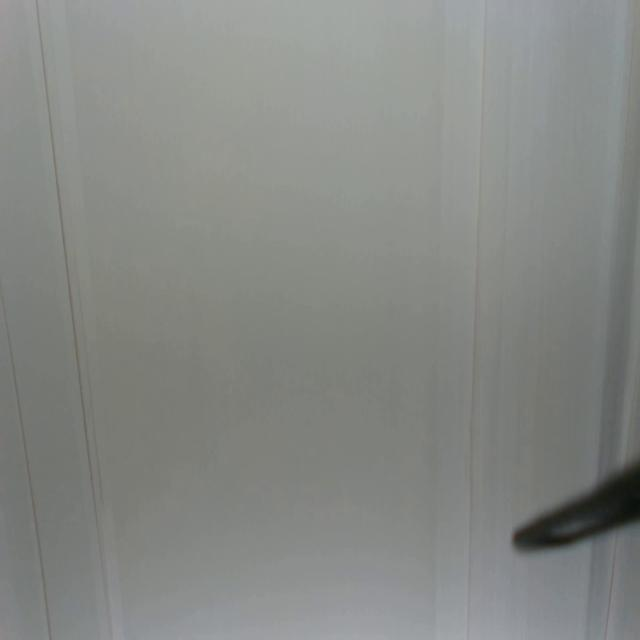crease: (35, 0, 117, 635), (0, 280, 50, 636), (465, 0, 488, 640), (600, 529, 623, 640), (623, 354, 640, 456)
